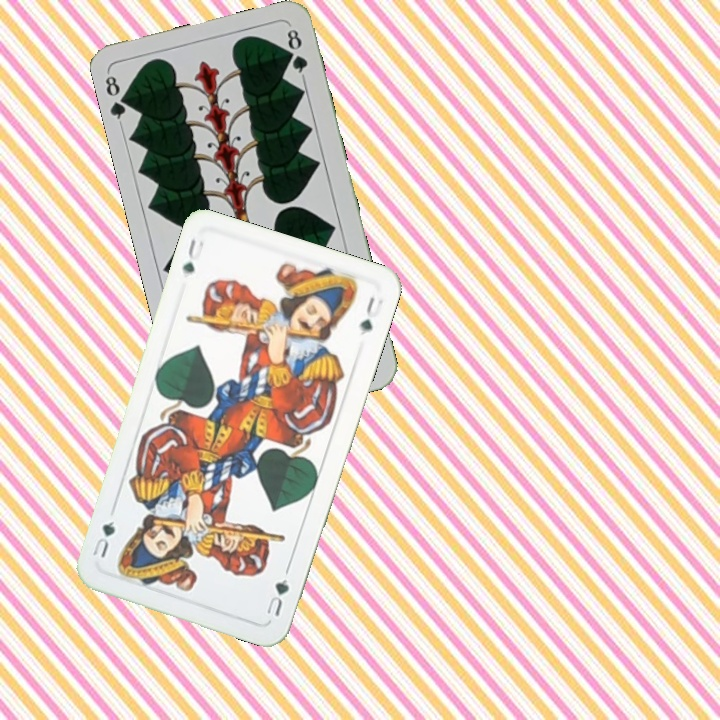G8: (101, 69, 134, 128)
GU: (262, 575, 292, 619), (178, 234, 207, 276)
